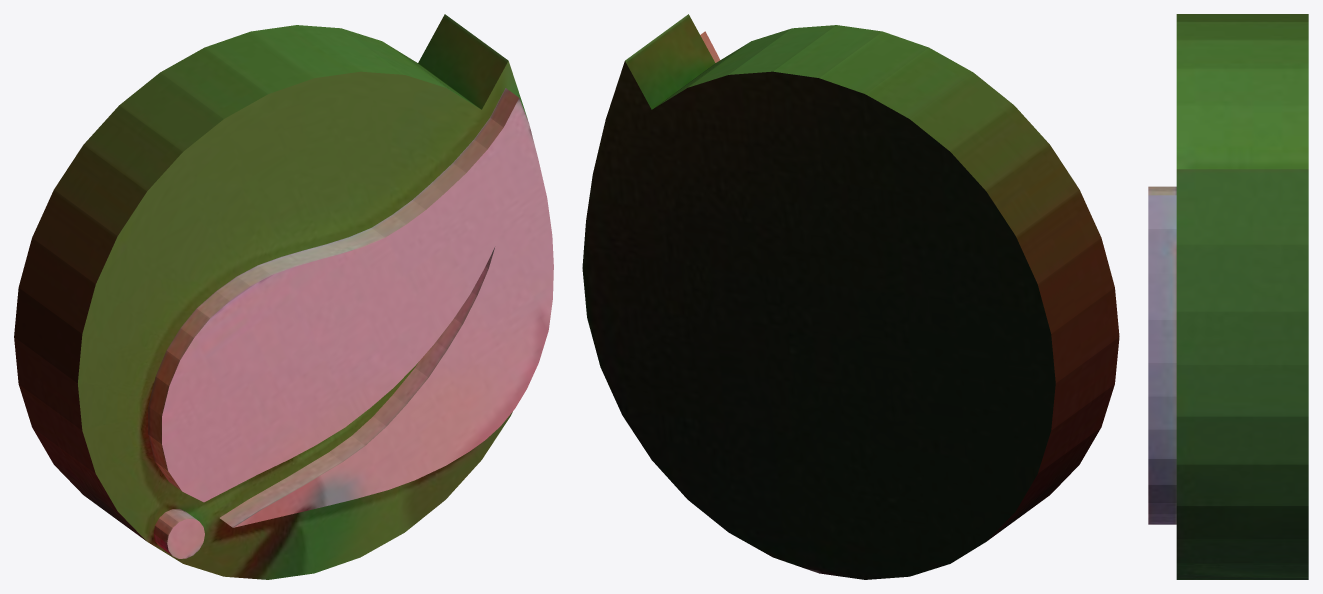
File: icon_spring_framework.glb
The picture shows the model from 3 angles, left to right: view 1: azimuth 30°, elevation 25°; view 2: azimuth 150°, elevation 25°; view 3: azimuth 270°, elevation 25°; orthographic projection. The views are drawn at different scales.
Visible parts, largest first — view 1: icon_spring_framework; view 2: icon_spring_framework; view 3: icon_spring_framework.
Boxes of the visible parts, x1=… form: icon_spring_framework: x1=14, y1=14, x2=553, y2=579; icon_spring_framework: x1=582, y1=14, x2=1119, y2=579; icon_spring_framework: x1=1148, y1=14, x2=1308, y2=579.
Size of the model in its own units: 2.95 by 2.95 by 0.8354.
Materials: 1 (1 with a texture image).
